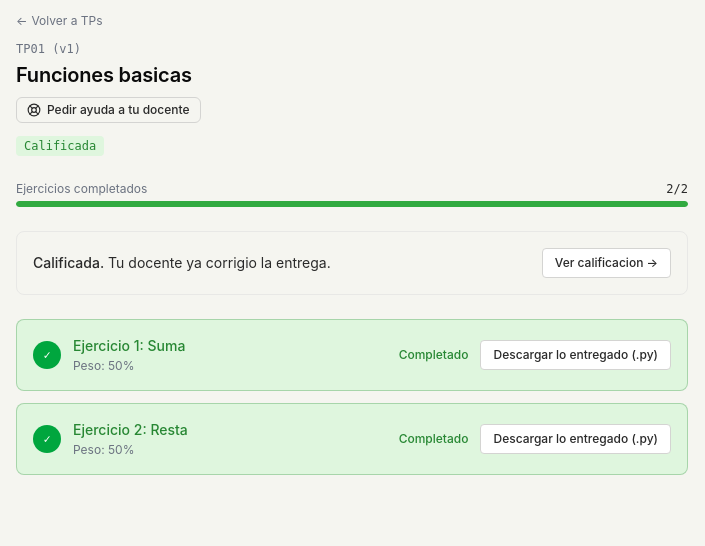
Test: descarga de lo entregado › falla la lectura del artefacto: aviso y los otros botones siguen
Expected: the list item with test id "ejercicio-item-1" is shown, [16,319,688,391]
Click the button "Descargar lo entregado (.py)" in the row of "Suma": (576, 355) [480,340,671,370]
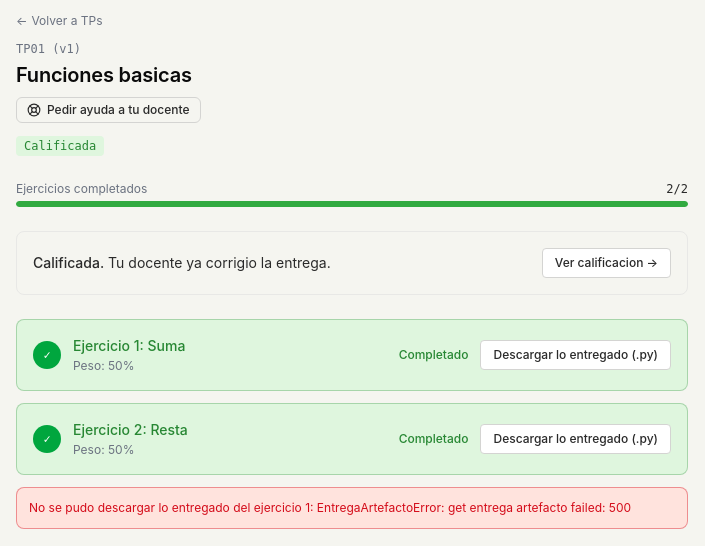
Now the text with test id "descarga-error" is shown, box [16,487,688,529]
